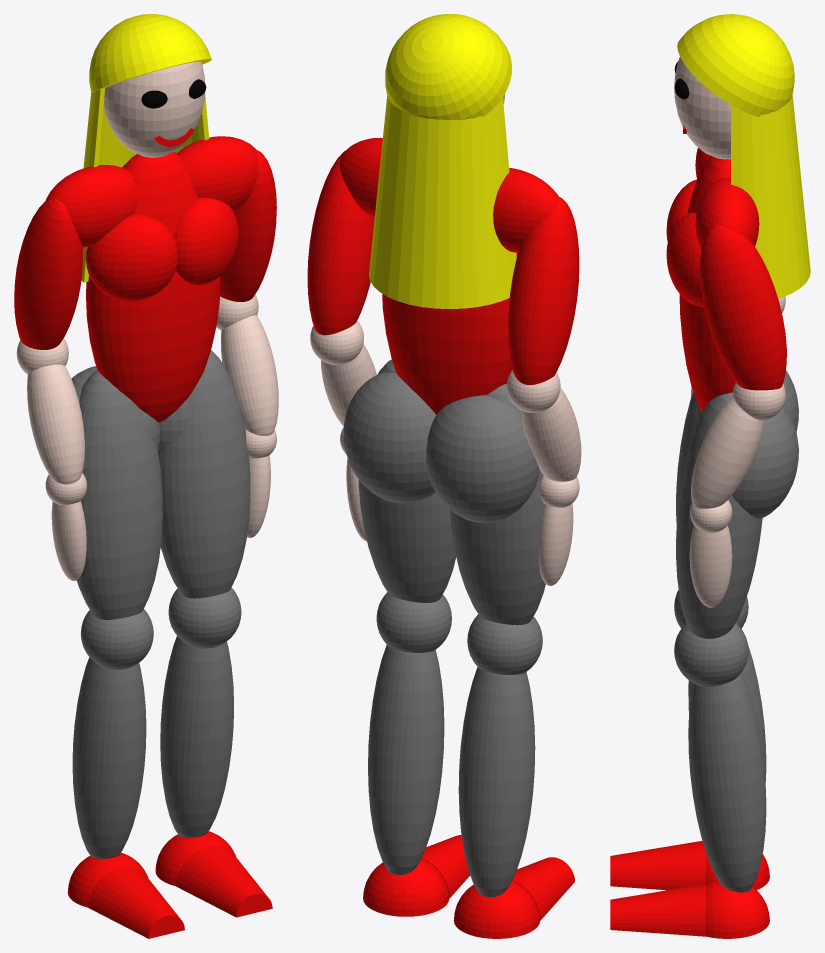
File: Noallo.glb
3 views of the same model, side by side, from view 1: azimuth 30°, elevation 25°; view 2: azimuth 150°, elevation 25°; view 3: azimuth 270°, elevation 25° (orthographic). The views are drawn at different scales.
Visible parts, largest first — view 1: VisualSceneNode1.001, VisualSceneNode1.003, VisualSceneNode1.004, VisualSceneNode1.008, VisualSceneNode1.009, VisualSceneNode1.020, VisualSceneNode1.002, VisualSceneNode1.030, VisualSceneNode1.018, VisualSceneNode1.022, VisualSceneNode1.015, VisualSceneNode1.013 (+18 smaller); view 2: VisualSceneNode1.032, VisualSceneNode1.008, VisualSceneNode1.009, VisualSceneNode1.028, VisualSceneNode1.001, VisualSceneNode1.018, VisualSceneNode1.020, VisualSceneNode1.029, VisualSceneNode1.004, VisualSceneNode1.003, VisualSceneNode1.013, VisualSceneNode1.011 (+14 smaller); view 3: VisualSceneNode1.008, VisualSceneNode1.013, VisualSceneNode1.032, VisualSceneNode1.018, VisualSceneNode1.003, VisualSceneNode1.015, VisualSceneNode1.001, VisualSceneNode1.029, VisualSceneNode1.012, VisualSceneNode1.010, VisualSceneNode1.006, VisualSceneNode1.002 (+12 smaller).
Part boxes in pixels (<box>): VisualSceneNode1.001: <box>86,152,220,422</box>; VisualSceneNode1.003: <box>158,350,250,598</box>; VisualSceneNode1.004: <box>76,370,162,619</box>; VisualSceneNode1.008: <box>160,636,233,837</box>; VisualSceneNode1.009: <box>72,657,146,858</box>; VisualSceneNode1.020: <box>14,199,82,349</box>; VisualSceneNode1.002: <box>103,61,205,157</box>; VisualSceneNode1.030: <box>86,214,177,301</box>; VisualSceneNode1.018: <box>89,14,211,93</box>; VisualSceneNode1.022: <box>27,364,84,484</box>; VisualSceneNode1.015: <box>220,315,278,435</box>; VisualSceneNode1.013: <box>220,150,276,302</box>; VisualSceneNode1.032: <box>369,96,516,308</box>; VisualSceneNode1.008: <box>368,645,444,874</box>; VisualSceneNode1.009: <box>458,667,535,897</box>; VisualSceneNode1.028: <box>426,395,540,523</box>; VisualSceneNode1.001: <box>382,294,512,414</box>; VisualSceneNode1.018: <box>385,14,511,120</box>; VisualSceneNode1.020: <box>508,197,579,384</box>; VisualSceneNode1.029: <box>343,372,436,503</box>; VisualSceneNode1.004: <box>449,383,545,625</box>; VisualSceneNode1.003: <box>358,359,455,602</box>; VisualSceneNode1.013: <box>307,150,374,335</box>; VisualSceneNode1.011: <box>363,858,449,916</box>; VisualSceneNode1.008: <box>688,672,766,892</box>; VisualSceneNode1.013: <box>699,224,786,390</box>; VisualSceneNode1.032: <box>731,95,810,298</box>; VisualSceneNode1.018: <box>677,14,794,116</box>; VisualSceneNode1.003: <box>676,392,762,638</box>; VisualSceneNode1.015: <box>691,396,764,508</box>; VisualSceneNode1.001: <box>679,156,735,412</box>; VisualSceneNode1.029: <box>732,406,798,518</box>; VisualSceneNode1.012: <box>610,884,705,936</box>; VisualSceneNode1.010: <box>610,841,705,890</box>; VisualSceneNode1.006: <box>674,623,748,686</box>; VisualSceneNode1.002: <box>674,57,730,159</box>.
Size of the model in its own units: 0.5491 by 1.82 by 0.3766.
